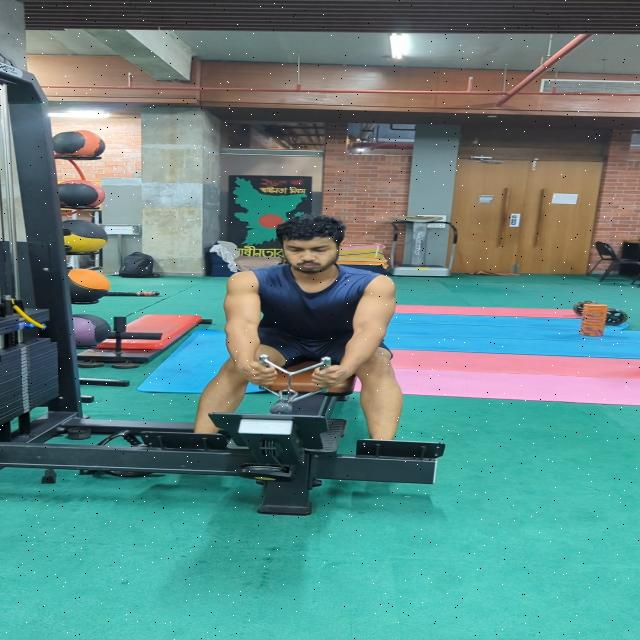Normal_RowingMachineExercise: (184, 213, 427, 449)
